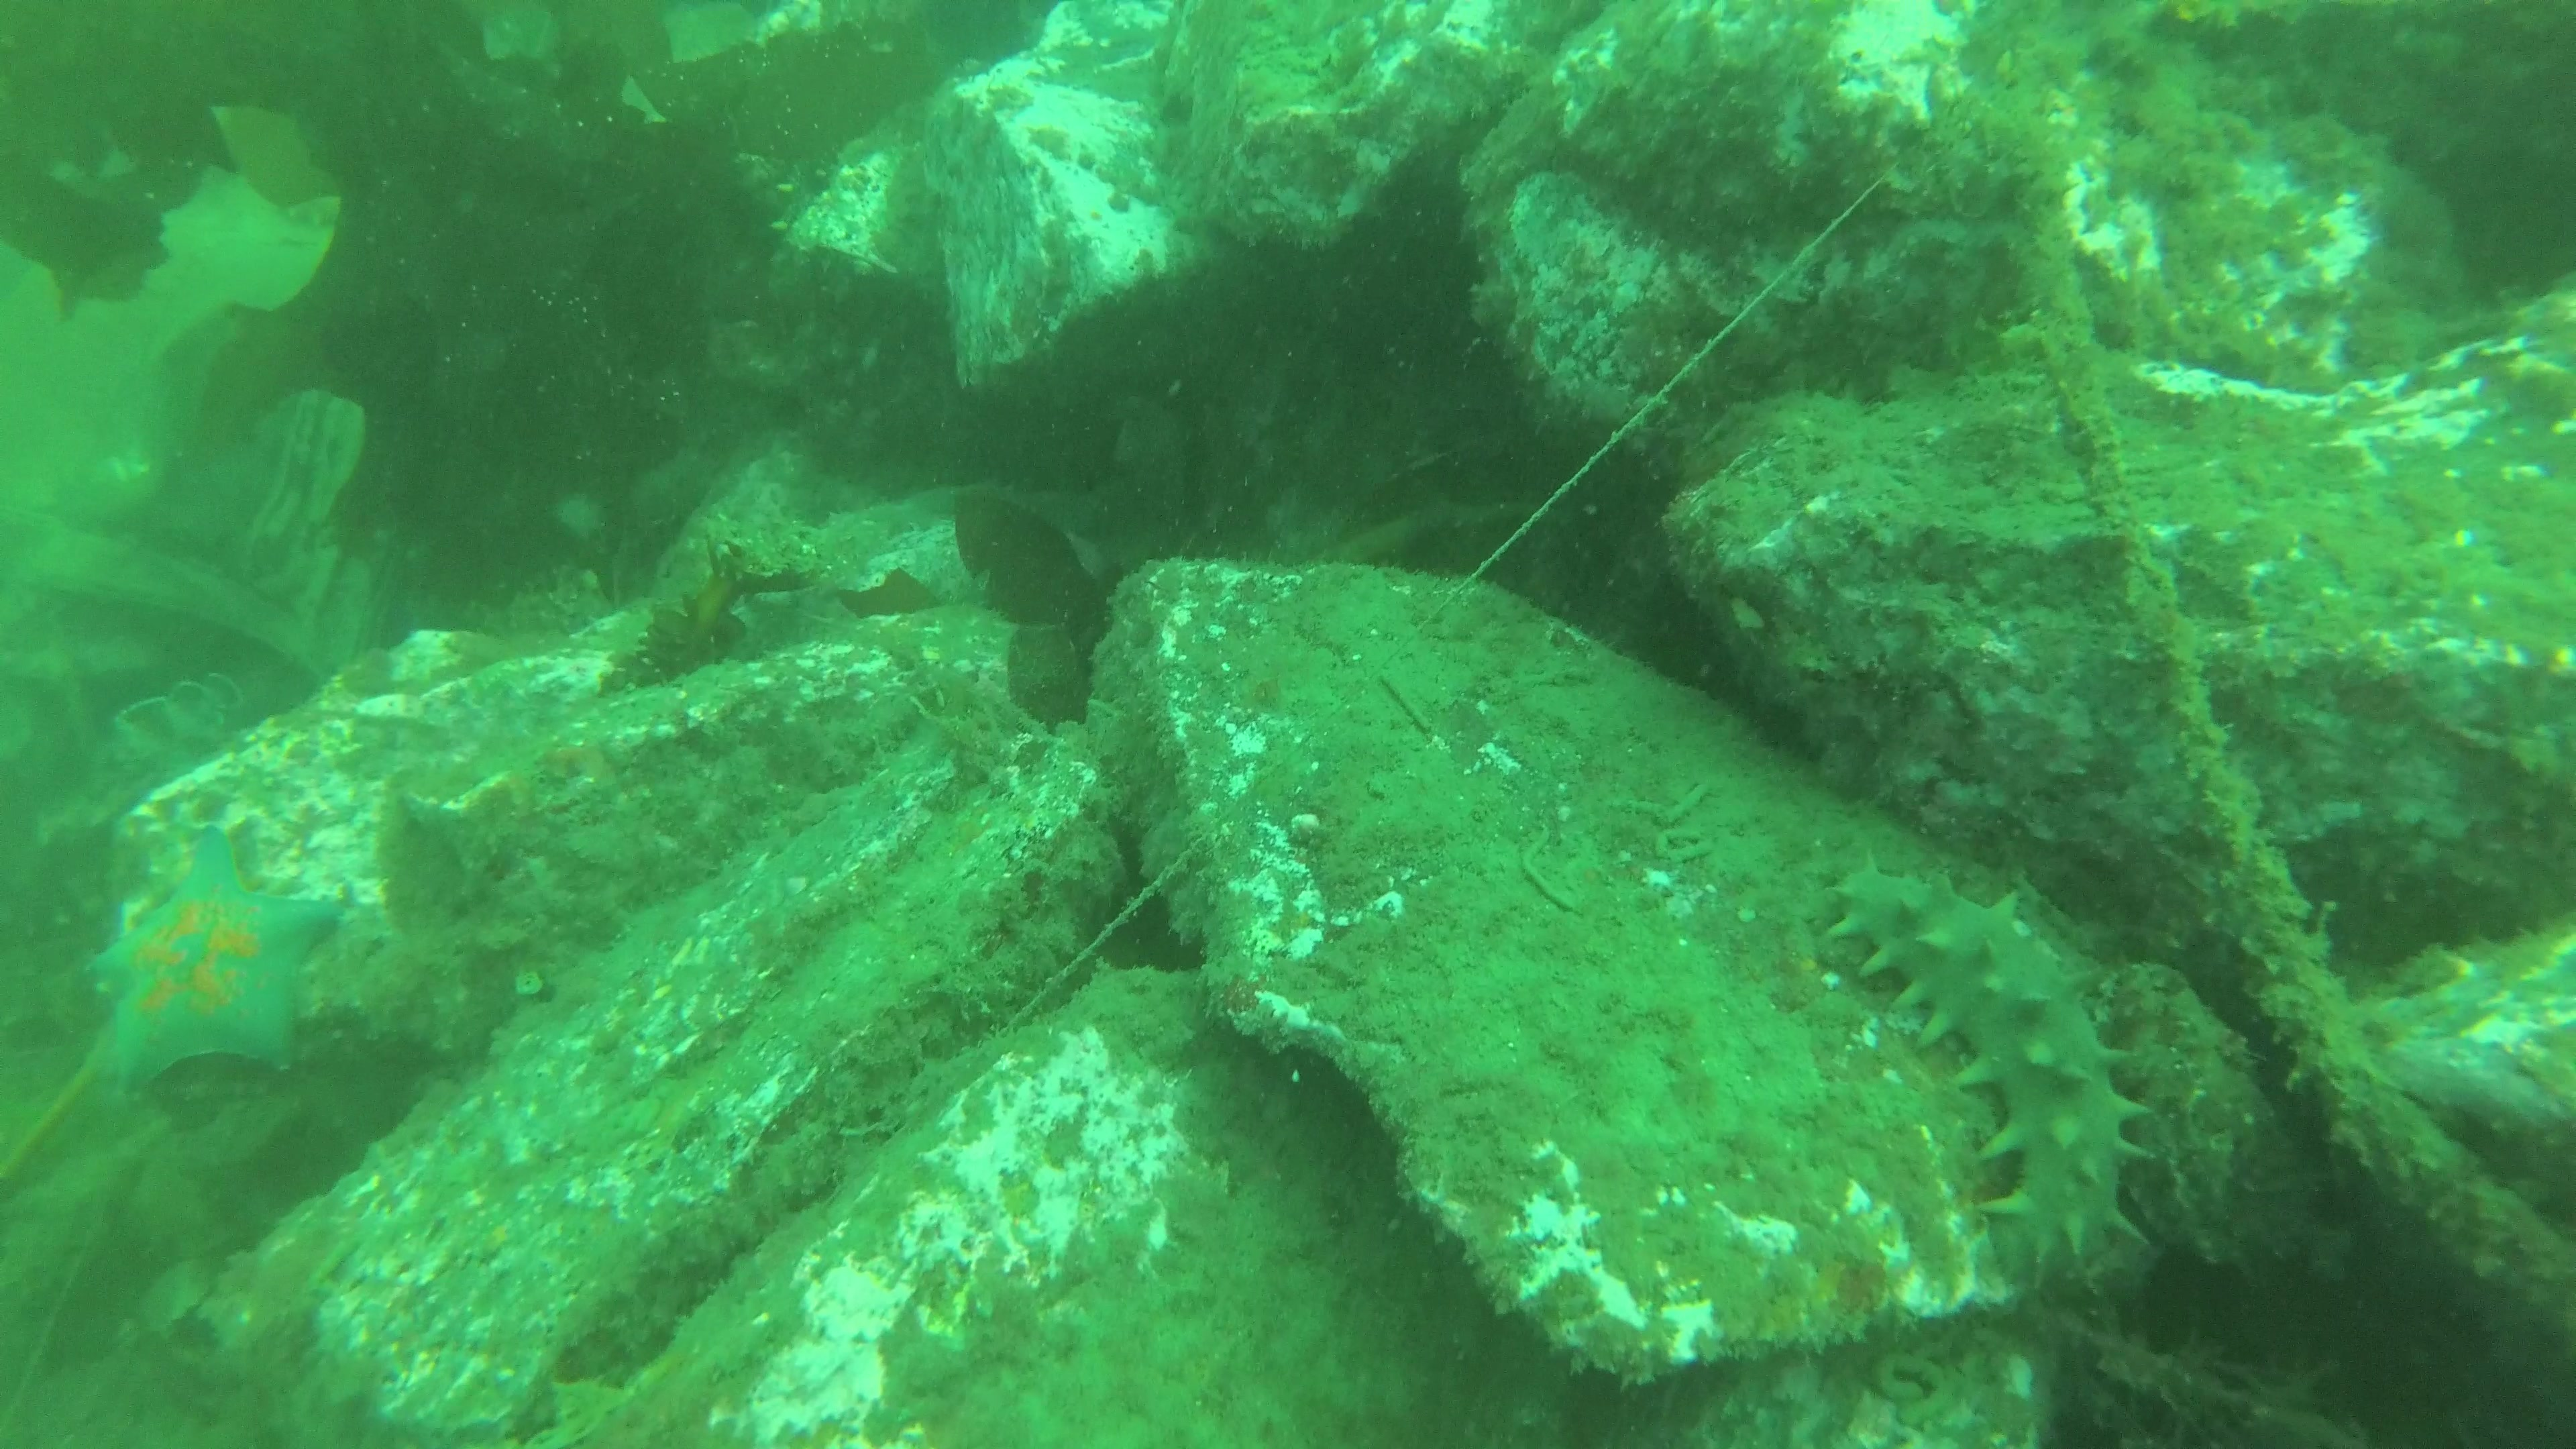holothurian: (1824, 851, 2155, 1269)
starfish: (83, 833, 341, 1097)
